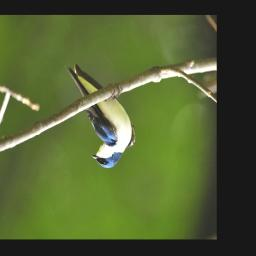Swallow: (66, 63, 137, 169)
